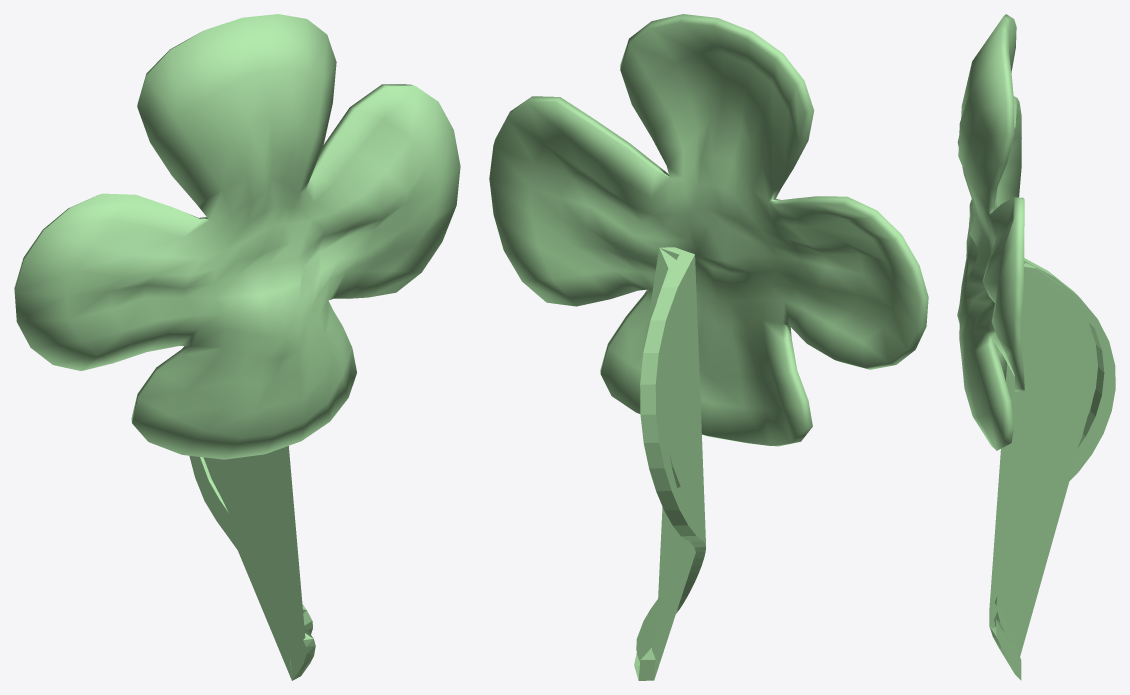
File: Clover.fbx
3 views of the same model, side by side, from view 1: azimuth 30°, elevation 25°; view 2: azimuth 150°, elevation 25°; view 3: azimuth 270°, elevation 25° (orthographic). The views are drawn at different scales.
Parts seen in each view (by area): view 1: 平面, 貝茲曲線; view 2: 平面, 貝茲曲線; view 3: 貝茲曲線, 平面.
Part boxes in pixels (<box>): 平面: <box>14,14,460,459</box>; 貝茲曲線: <box>189,446,315,680</box>; 平面: <box>489,14,928,446</box>; 貝茲曲線: <box>634,247,705,680</box>; 貝茲曲線: <box>989,258,1115,680</box>; 平面: <box>957,14,1024,450</box>.
Bounding box in the file's own units: 194 × 284 × 65.67.
